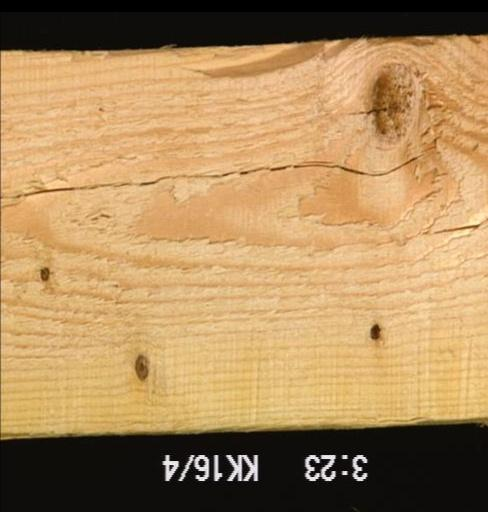small_knot: (37, 263, 52, 284)
sound_knot: (366, 57, 426, 149), (132, 352, 150, 382)
split: (0, 149, 439, 204), (422, 213, 486, 239)
wave: (61, 43, 361, 92)
